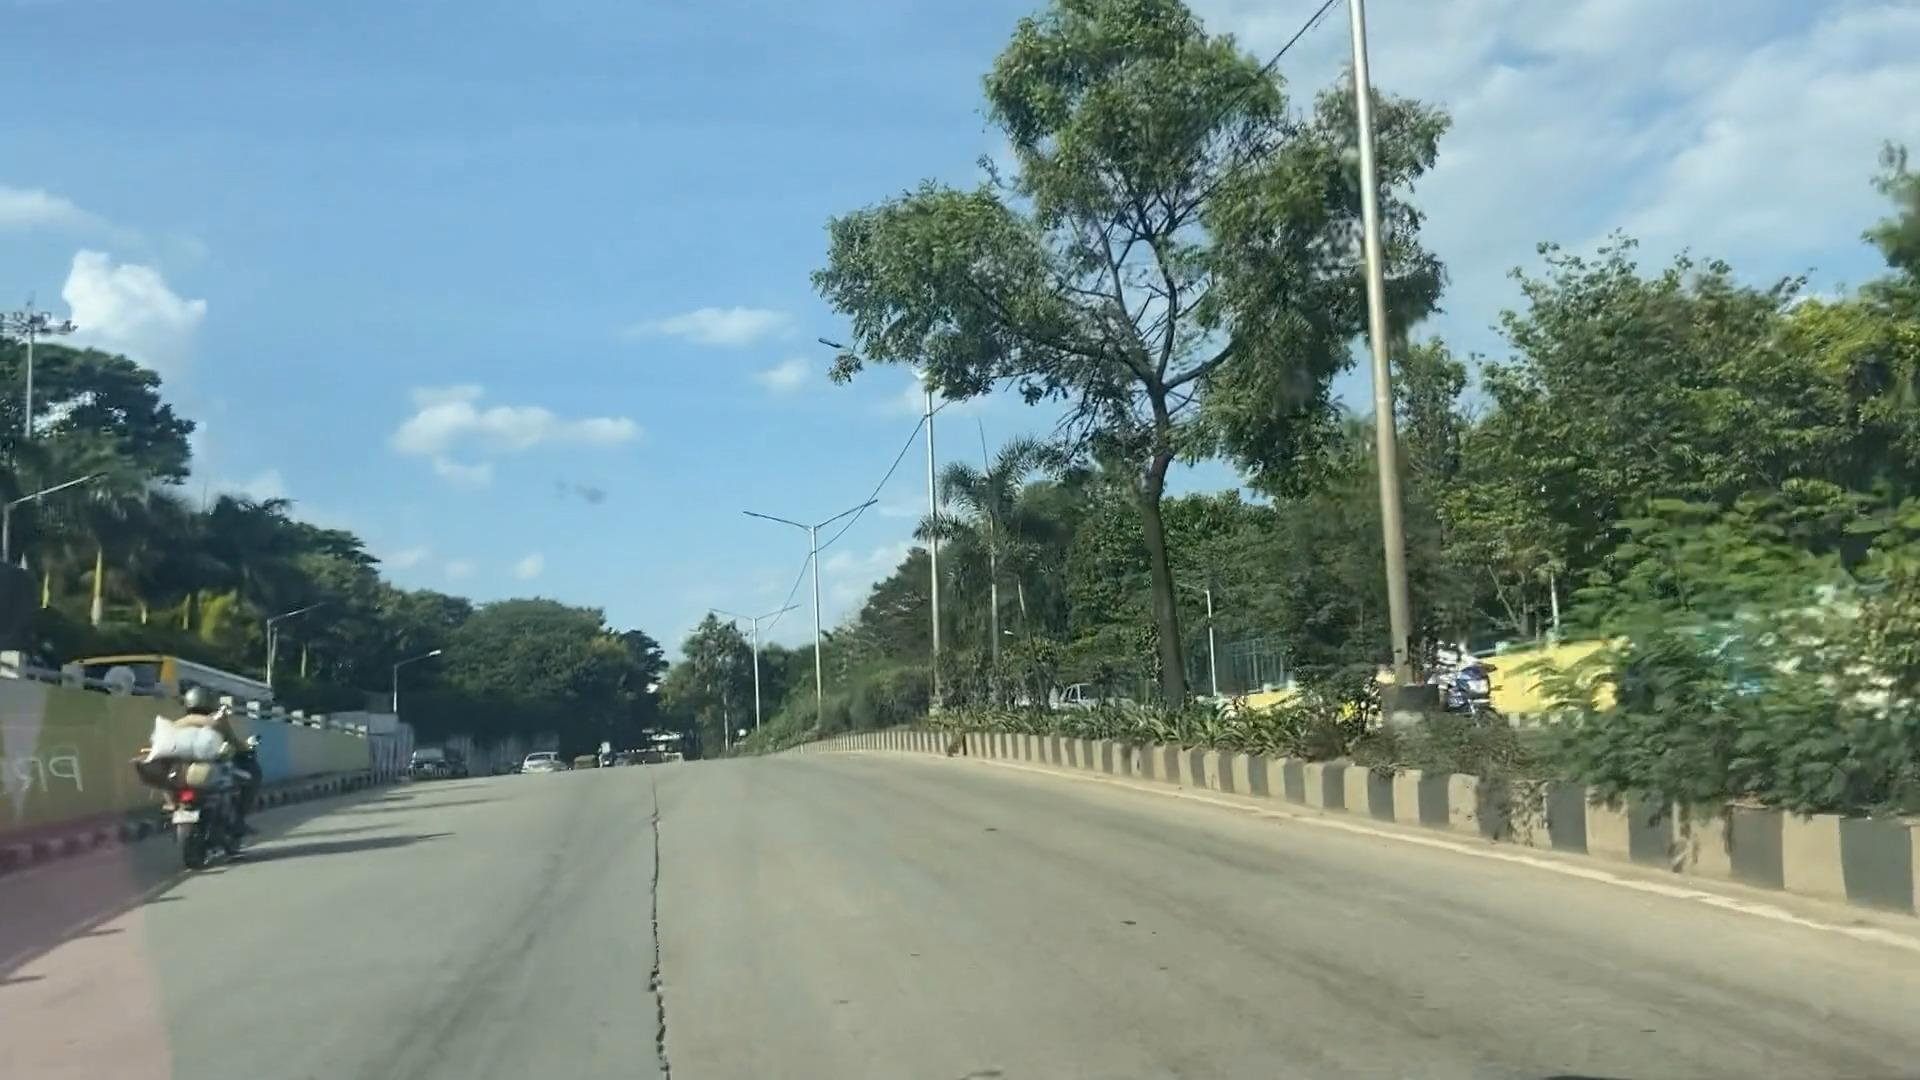LMV: (146, 690, 263, 858)
RoadDamages: (632, 770, 698, 1080)
